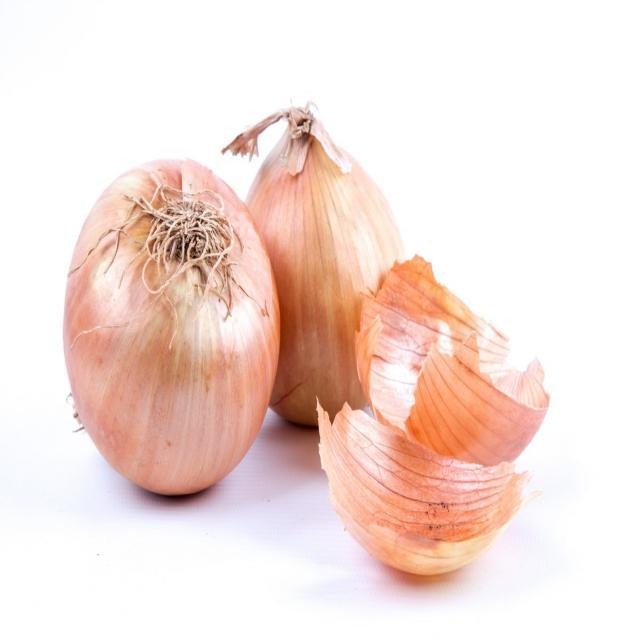ONIONS: (65, 160, 282, 493), (248, 116, 389, 434), (350, 257, 554, 462), (320, 414, 548, 574)
